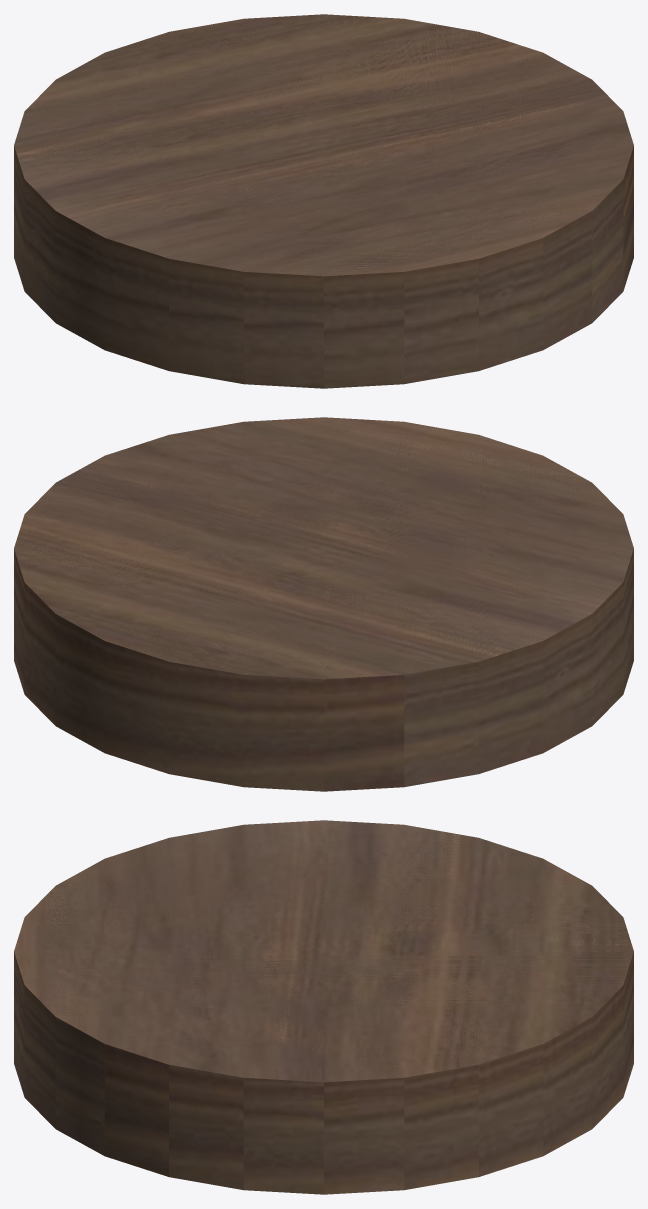
File: circle_walnut.fbx
The picture shows the model from 3 angles, top to bottom: view 1: azimuth 30°, elevation 25°; view 2: azimuth 150°, elevation 25°; view 3: azimuth 270°, elevation 25°; orthographic projection.
Parts seen in each view (by area): view 1: Model; view 2: Model; view 3: Model.
Boxes of the visible parts, left/top/right/bottom form: Model: left=14, top=14, right=633, bottom=388; Model: left=14, top=417, right=633, bottom=791; Model: left=14, top=820, right=633, bottom=1194.
Size of the model in its own units: 5 by 1 by 5.
